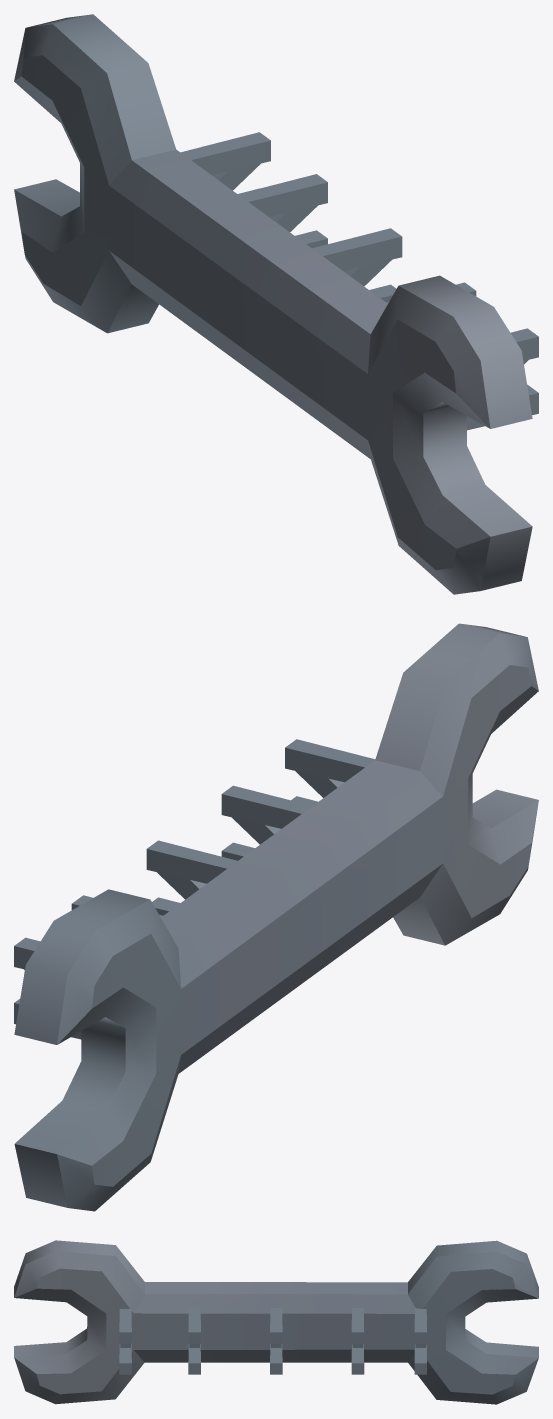
File: FlatWrenchSign_2_B.fbx
The picture shows the model from 3 angles, top to bottom: view 1: azimuth 30°, elevation 25°; view 2: azimuth 150°, elevation 25°; view 3: azimuth 270°, elevation 25°; orthographic projection. The views are drawn at different scales.
Parts seen in each view (by area): view 1: FlatWrenchSign_2_B; view 2: FlatWrenchSign_2_B; view 3: FlatWrenchSign_2_B.
Boxes of the visible parts, left/top/right/bottom form: FlatWrenchSign_2_B: left=14, top=14, right=538, bottom=594; FlatWrenchSign_2_B: left=14, top=623, right=538, bottom=1211; FlatWrenchSign_2_B: left=14, top=1240, right=538, bottom=1404.
Size of the model in its own units: 76.66 by 129 by 401.
